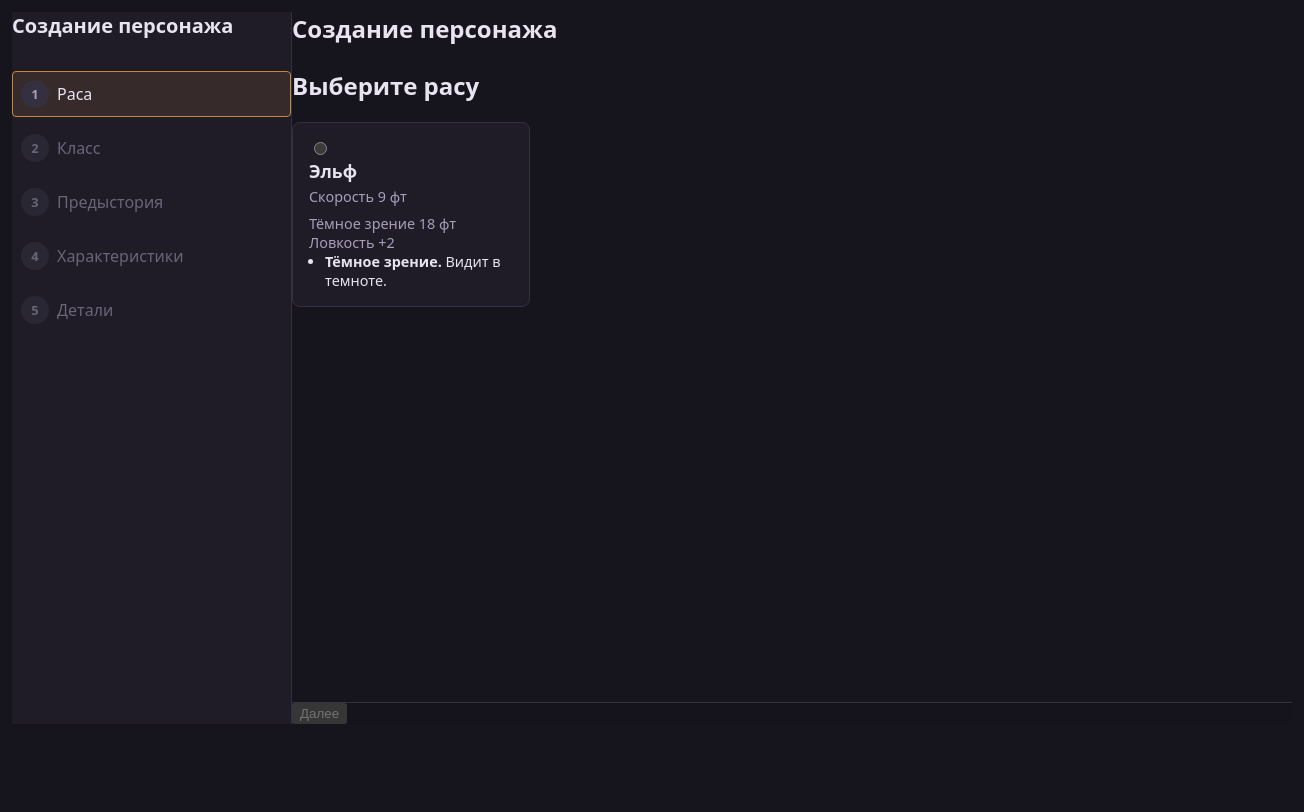
Test: CharacterWizardPage › goes back to the previous step keeping the earlier selection
Click the radio button at (320, 148), box [314, 142, 327, 155]
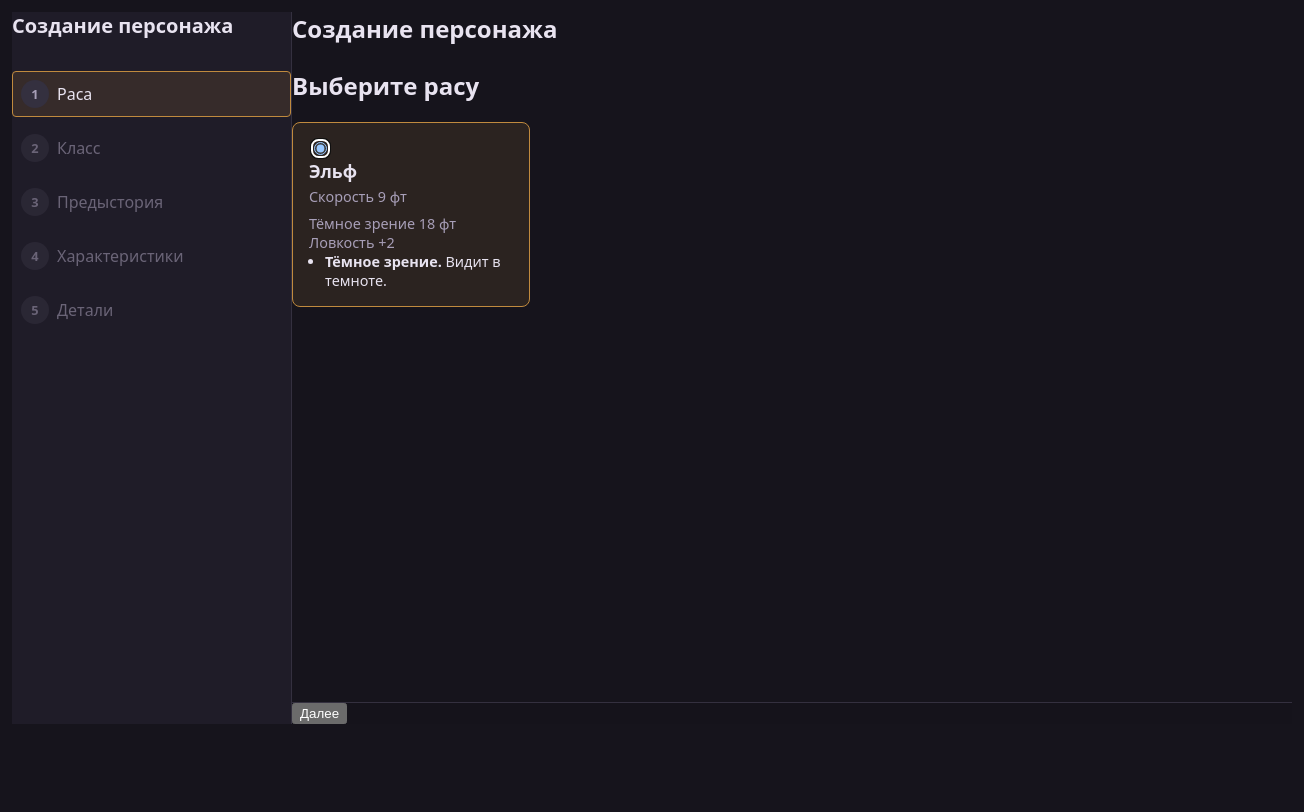
Click the button "Далее" at (320, 714), box [292, 703, 347, 724]
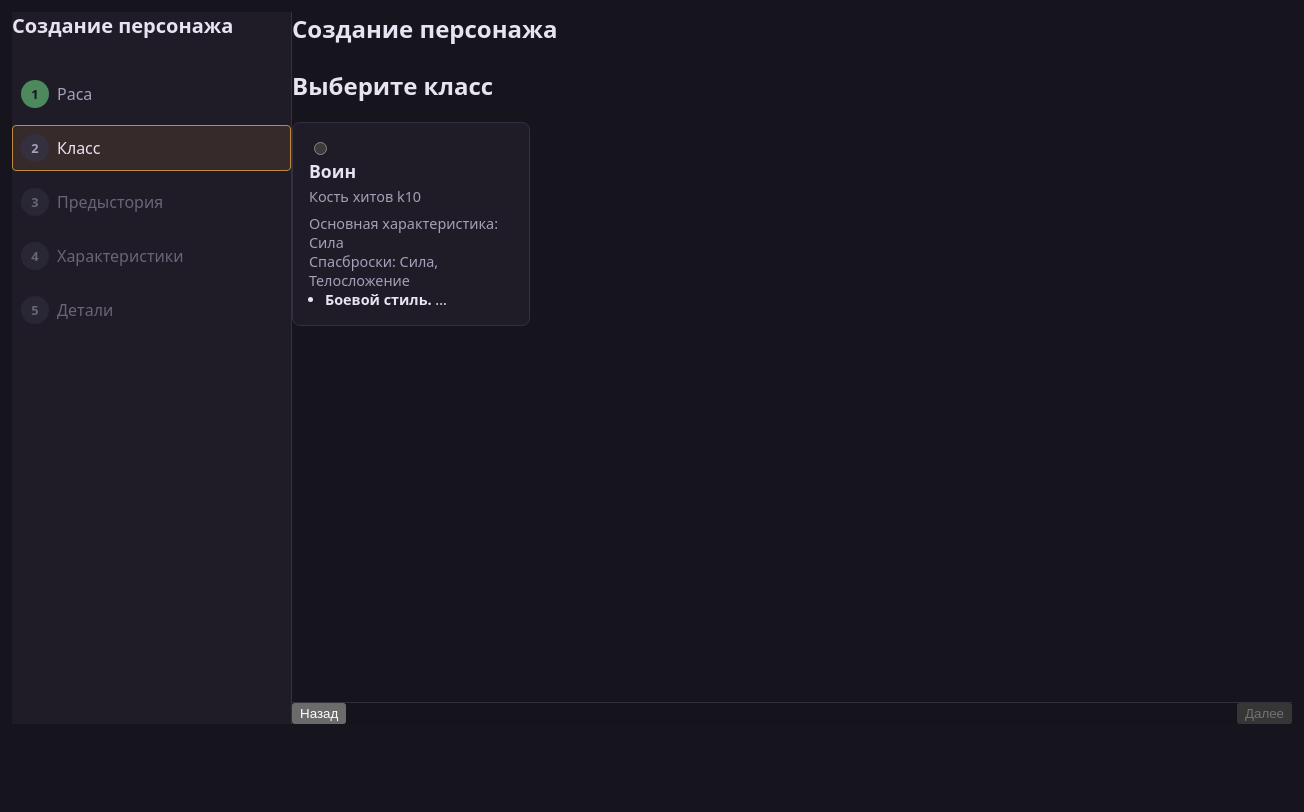
Expected: the heading "Выберите класс" is shown, [292, 69, 493, 102]
Click the button "Назад" at (319, 714), box [292, 703, 346, 724]
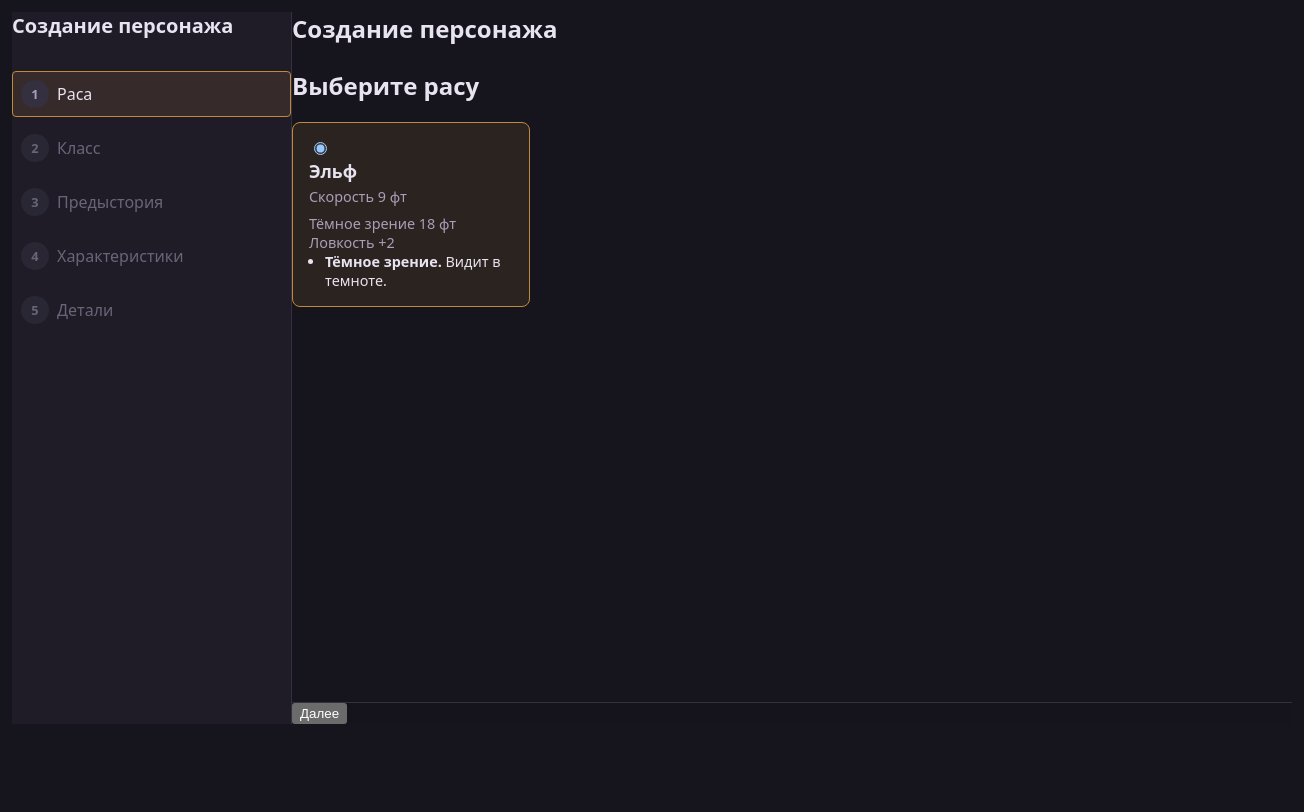
Expected: the heading "Выберите расу" is shown, [292, 69, 479, 102]
Expected: the radio button labelled "Эльф" is checked, [314, 142, 327, 155]
